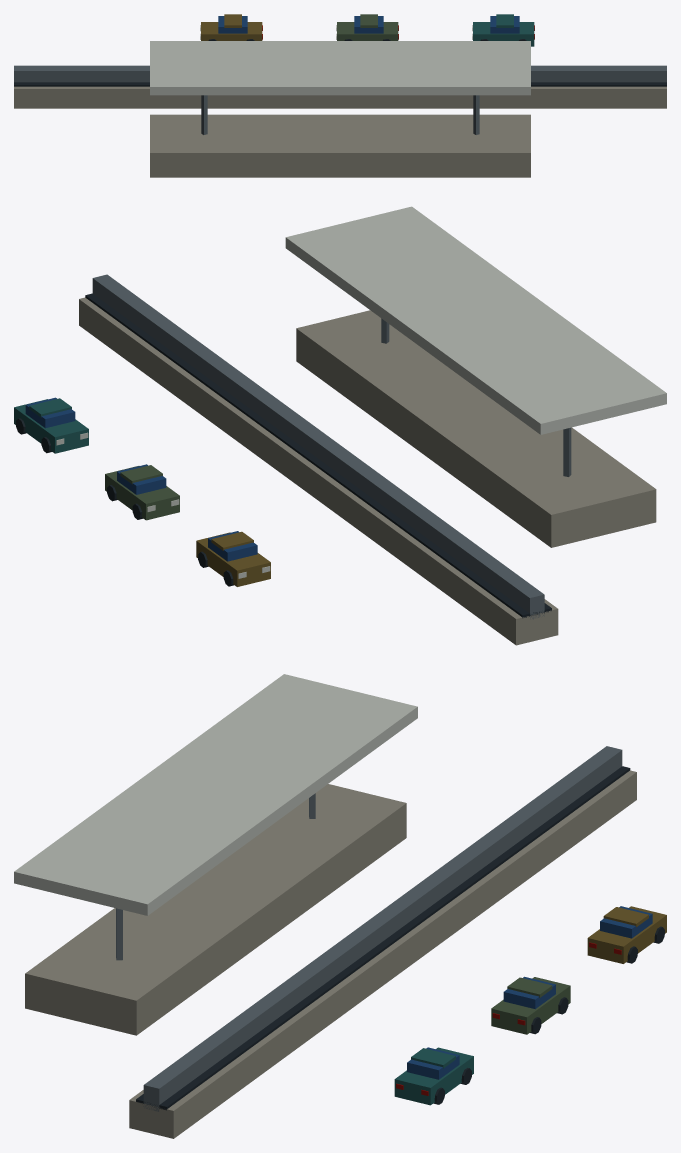
The model's file is maglevstation3.glb.
3 renders of one model, top to bottom at view 1: azimuth 30°, elevation 25°; view 2: azimuth 150°, elevation 25°; view 3: azimuth 270°, elevation 25°, orthographic. The views are drawn at different scales.
Parts seen in each view (by area): view 1: maglevstation3; view 2: maglevstation3; view 3: maglevstation3.
Boxes of the visible parts, <box> form: maglevstation3: <box>14,14,666,177</box>; maglevstation3: <box>14,206,666,645</box>; maglevstation3: <box>14,674,666,1138</box>.
Bounding box in the file's own units: 64.35 × 11.5 × 50.76.
